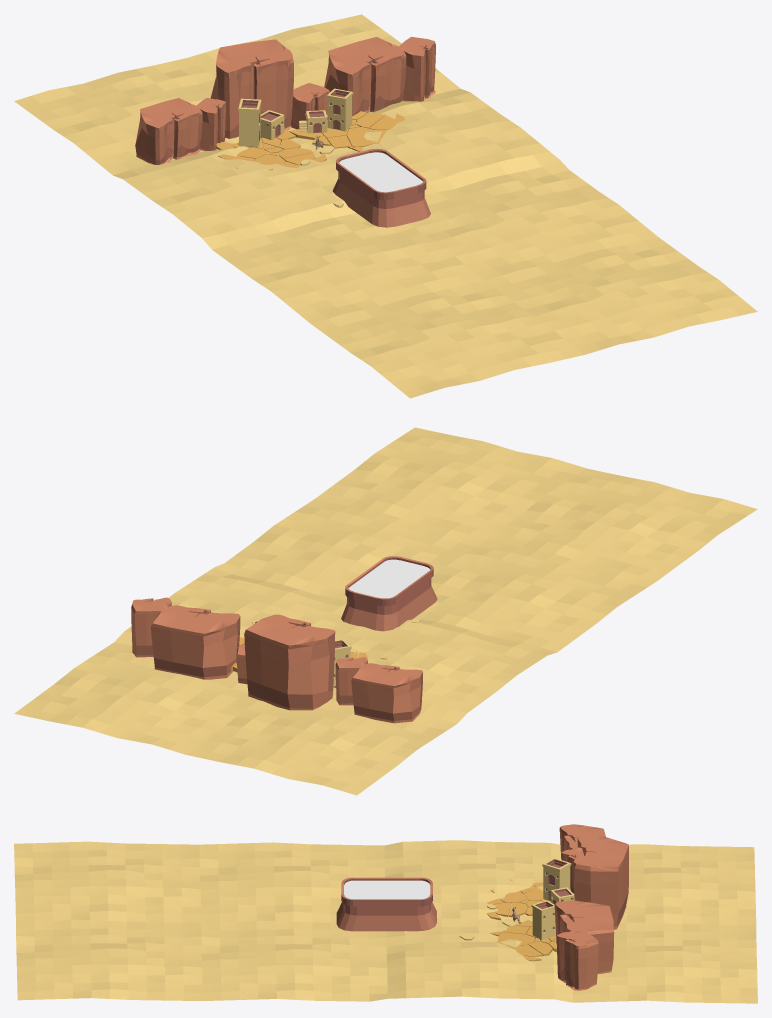
3 views of the same model, one above another, from view 1: azimuth 30°, elevation 25°; view 2: azimuth 150°, elevation 25°; view 3: azimuth 270°, elevation 25° (orthographic). The views are drawn at different scales.
Parts seen in each view (by area): view 1: IceDecor02_0.007, IceDecor02_0.008, IceDecor02_0.009, IceDecor02_0.010, ForestSides_0.001, mesh.006, DesertHouse_0.002, DesertHouse_0.001, ArenaSides_0; view 2: IceDecor02_0.007, IceDecor02_0.009, IceDecor02_0.008, IceDecor02_0.010, ForestSides_0.001, ArenaSides_0; view 3: IceDecor02_0.007, IceDecor02_0.008, ForestSides_0.001, IceDecor02_0.009, mesh.006, DesertHouse_0.002, ArenaSides_0, IceDecor02_0.010, DesertHouse_0.001.
Boxes of the visible parts, box(x1,y1,x2,y2) form: IceDecor02_0.007: box(14, 14, 757, 398); IceDecor02_0.008: box(324, 36, 435, 115); IceDecor02_0.009: box(210, 39, 329, 138); IceDecor02_0.010: box(135, 98, 226, 164); ForestSides_0.001: box(332, 152, 430, 227); mesh.006: box(216, 111, 404, 170); DesertHouse_0.002: box(238, 98, 284, 147); DesertHouse_0.001: box(299, 88, 353, 133); ArenaSides_0: box(336, 148, 426, 200); IceDecor02_0.007: box(14, 427, 757, 795); IceDecor02_0.009: box(236, 614, 335, 710); IceDecor02_0.008: box(131, 597, 240, 679); IceDecor02_0.010: box(335, 657, 422, 723); ForestSides_0.001: box(341, 559, 437, 631); ArenaSides_0: box(345, 556, 433, 606); IceDecor02_0.007: box(14, 840, 757, 1003); IceDecor02_0.008: box(554, 900, 614, 990); ForestSides_0.001: box(336, 880, 436, 931); IceDecor02_0.009: box(573, 835, 628, 929); mesh.006: box(486, 879, 570, 961); DesertHouse_0.002: box(542, 857, 574, 904); ArenaSides_0: box(341, 877, 432, 906); IceDecor02_0.010: box(559, 824, 605, 893); DesertHouse_0.001: box(531, 900, 555, 940).
Bounding box in the file's own units: 2026 × 394 × 3985.
